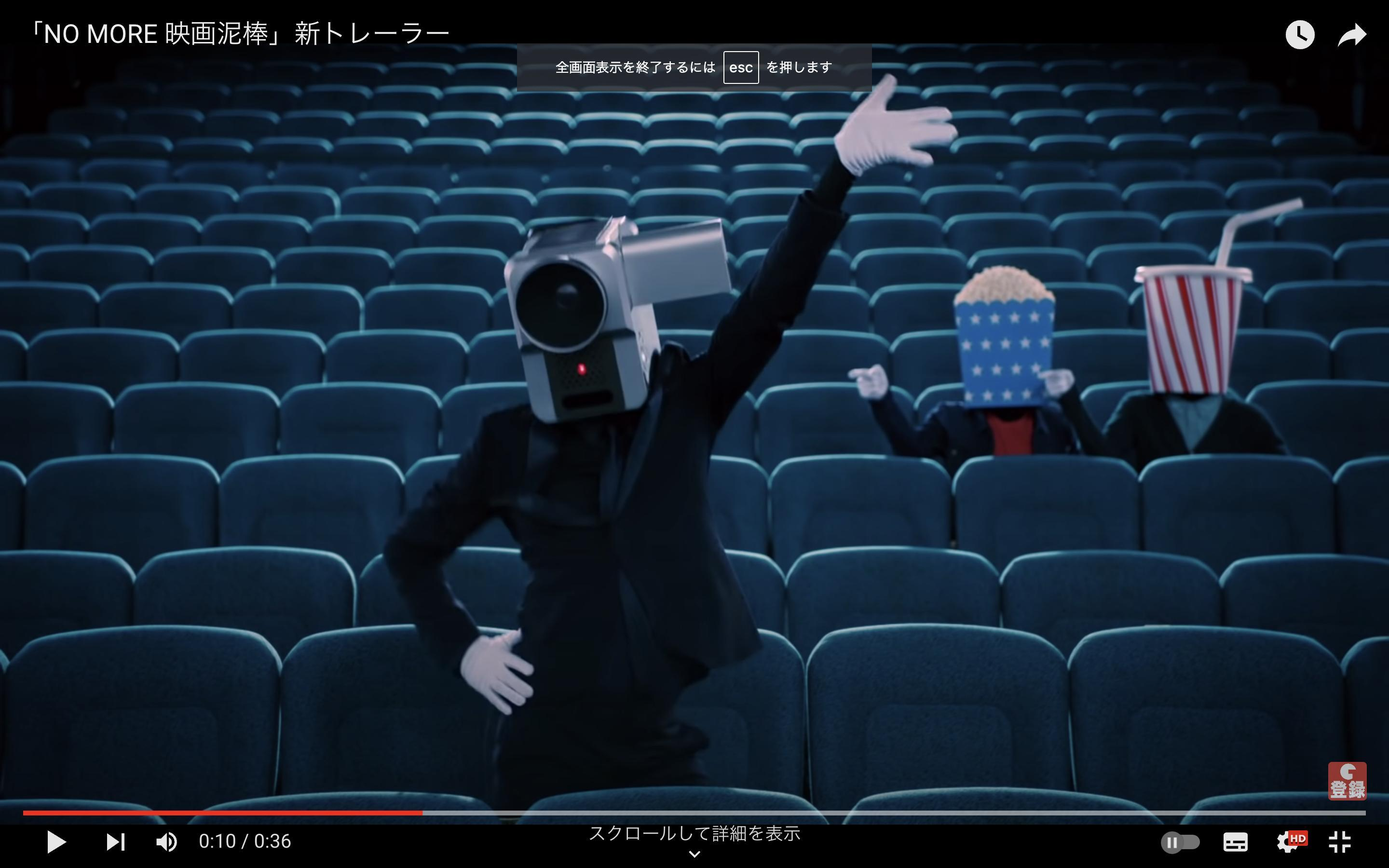no more kid: (503, 220, 741, 423)
